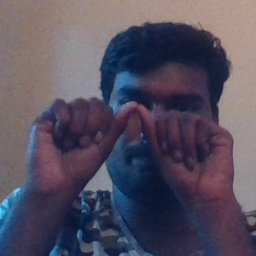A: (55, 94, 212, 197)
